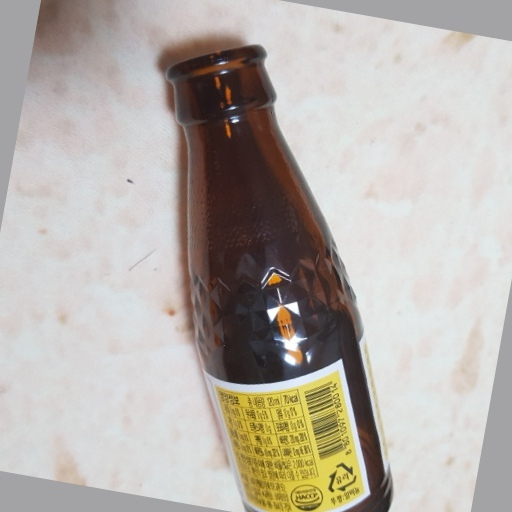Glass_3: (168, 43, 397, 512)
